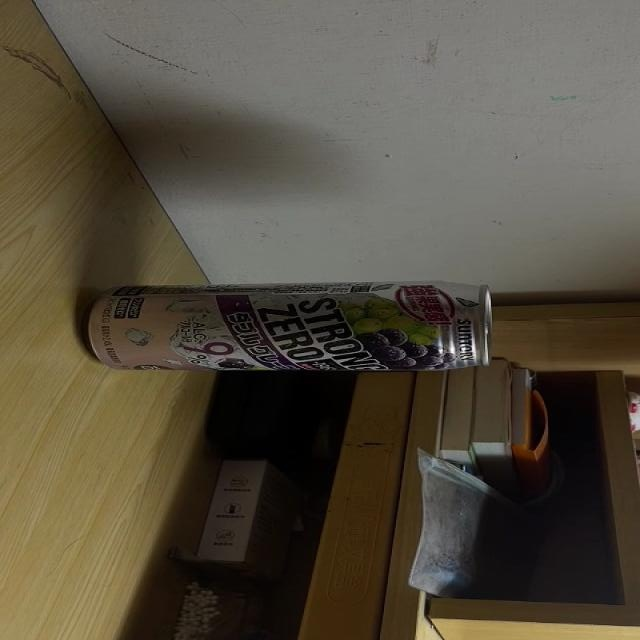Liquor: (85, 282, 493, 371)
